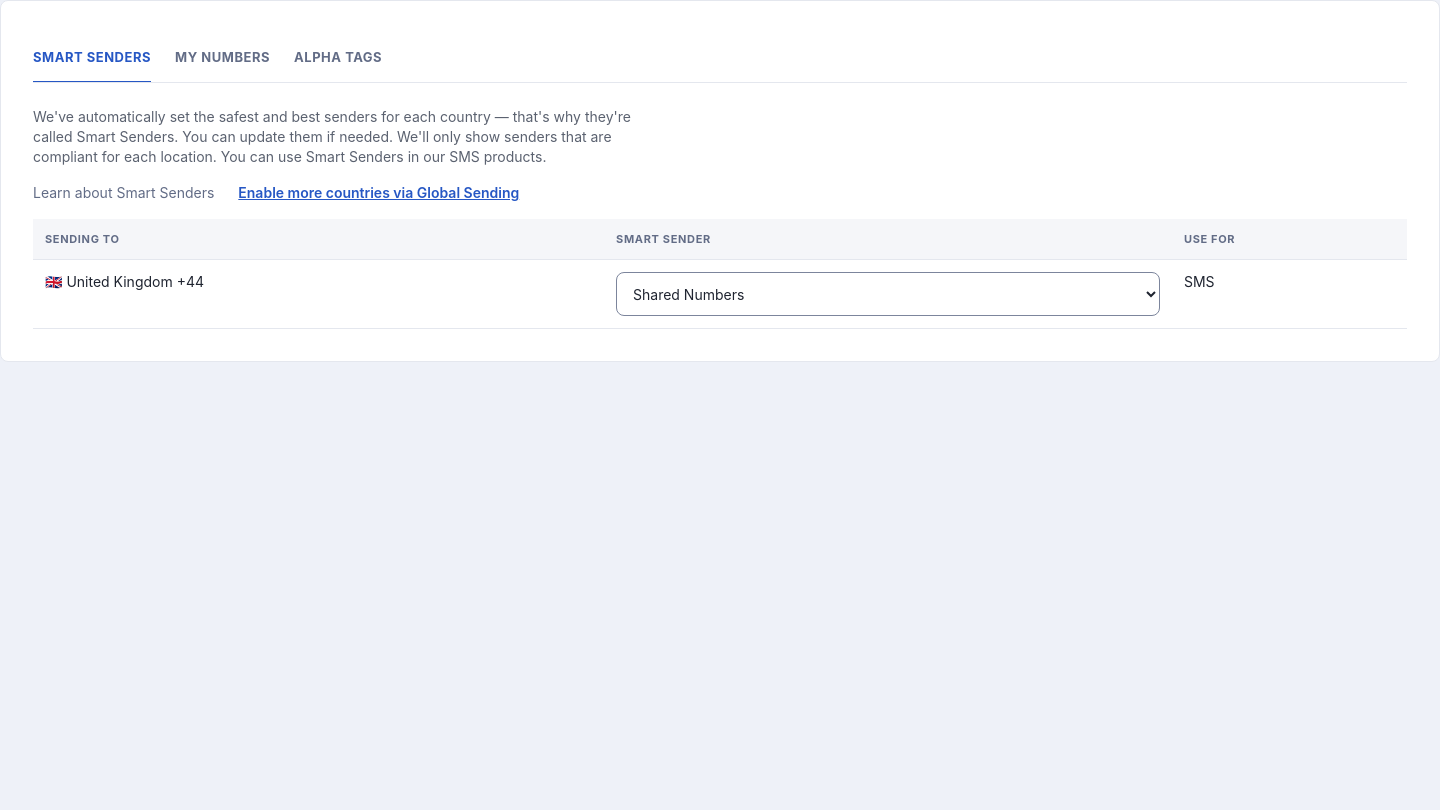
Test case: MyNumbersTab › reopens the add form filled in when re-verifying a pending number
Click the tab "My Numbers" at (222, 58), box [175, 33, 270, 83]
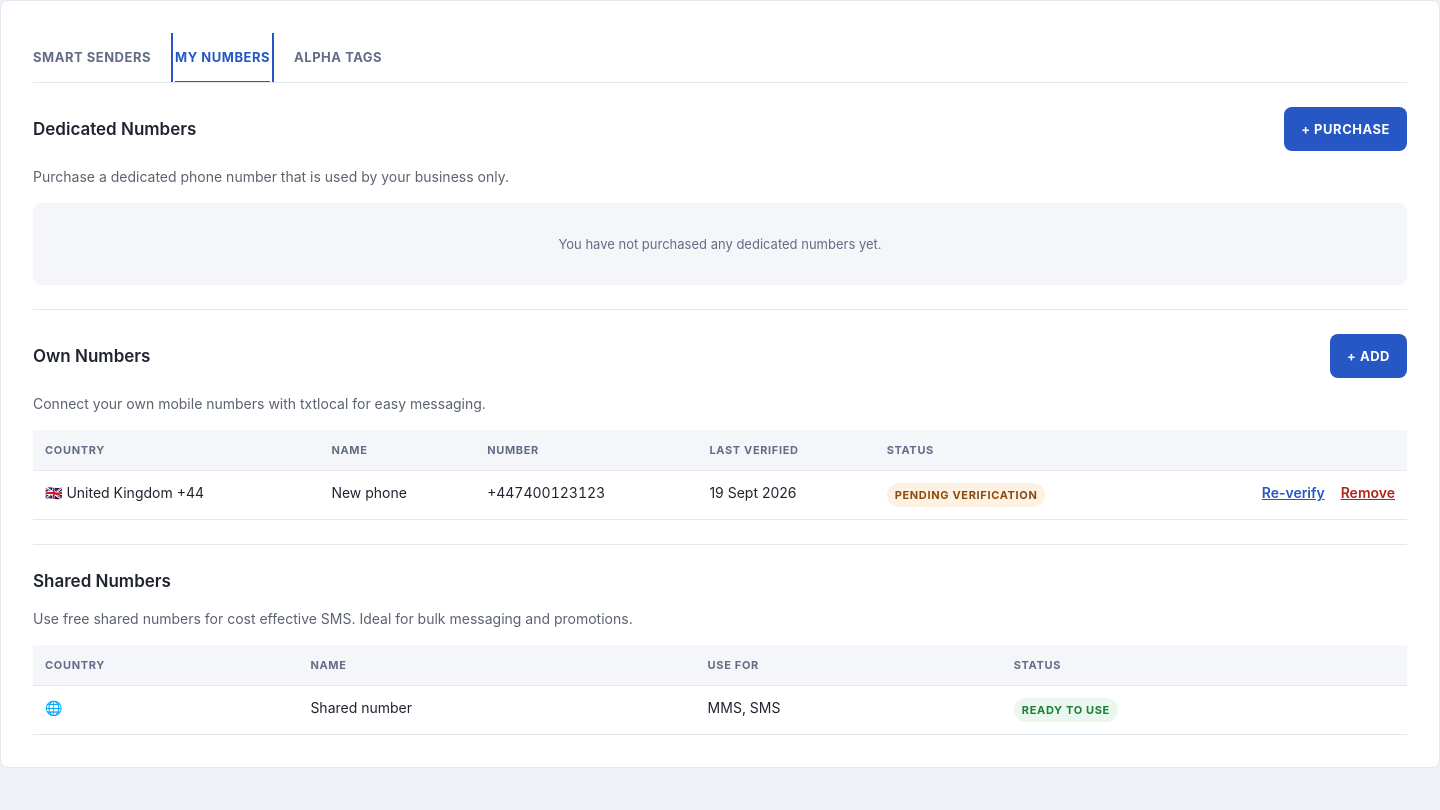
Click the button with aria-label "Re-verify +447400123123" at (1293, 493), box [1254, 479, 1333, 507]
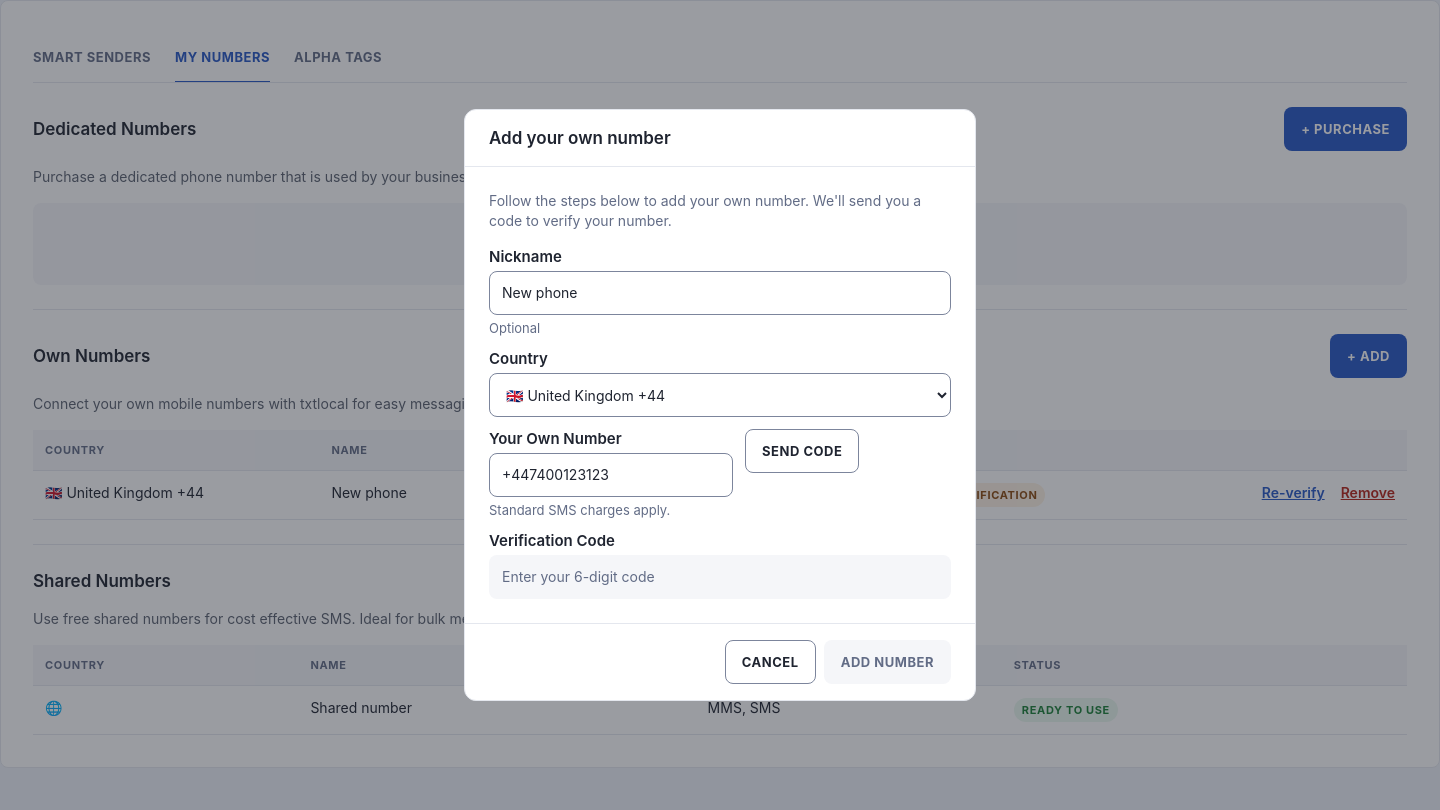
Now the field labelled "Nickname" holds "New phone", box [489, 271, 951, 315]
Now the field labelled "Your Own Number" holds "+447400123123", box [489, 453, 733, 497]
